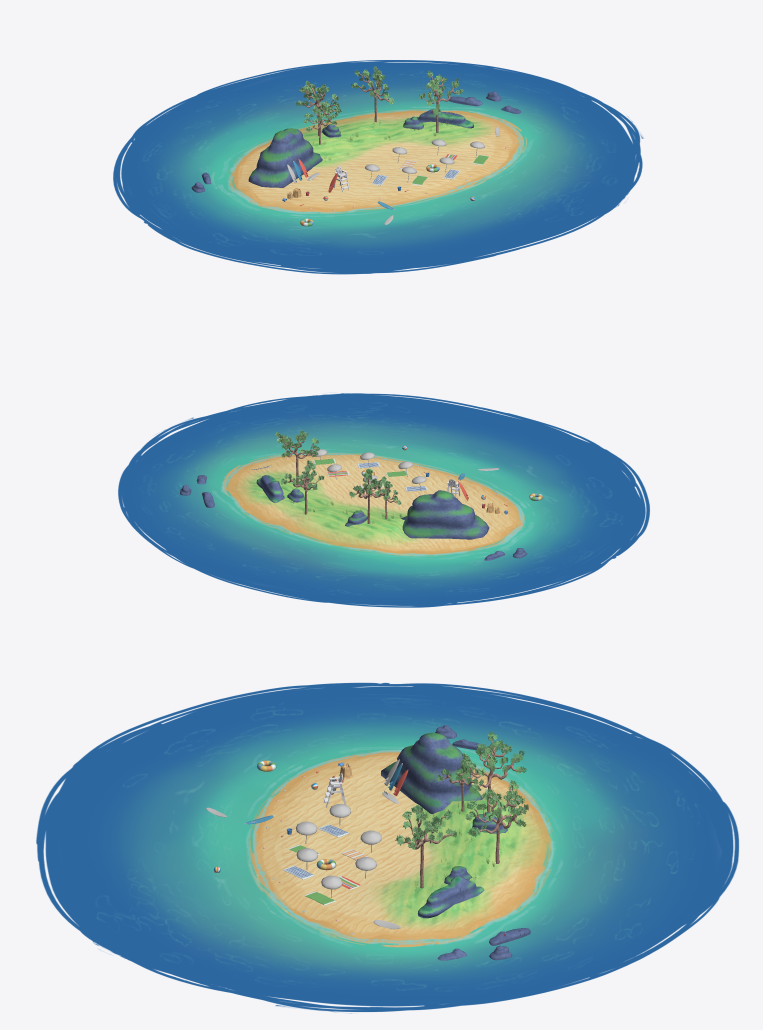
3 renders of one model, top to bottom at view 1: azimuth 30°, elevation 25°; view 2: azimuth 150°, elevation 25°; view 3: azimuth 270°, elevation 25°, orthographic. The views are drawn at different scales.
Parts seen in each view (by area): view 1: IslandModel_111, Rocks01WithGrass, Trees, Umbrellas, Rock02GrassGeo_117; view 2: IslandModel_111, Rocks01WithGrass, Trees, Umbrellas; view 3: IslandModel_111, Trees, Rocks01WithGrass, Umbrellas, Rock02GrassGeo_117, Rocks02WithoutGrass.
Part boxes in pixels (bbox=[...]): IslandModel_111: bbox=[113, 60, 643, 274]; Rocks01WithGrass: bbox=[248, 116, 423, 187]; Trees: bbox=[296, 66, 463, 144]; Umbrellas: bbox=[365, 139, 484, 182]; Rock02GrassGeo_117: bbox=[416, 108, 473, 128]; IslandModel_111: bbox=[118, 393, 649, 607]; Rocks01WithGrass: bbox=[287, 488, 489, 539]; Trees: bbox=[275, 430, 401, 523]; Umbrellas: bbox=[313, 449, 426, 491]; IslandModel_111: bbox=[36, 682, 739, 1013]; Trees: bbox=[395, 731, 528, 888]; Rocks01WithGrass: bbox=[381, 732, 507, 884]; Umbrellas: bbox=[296, 804, 381, 897]; Rock02GrassGeo_117: bbox=[417, 876, 484, 918]; Rocks02WithoutGrass: bbox=[437, 739, 530, 960].
Size of the model in its own units: 5450 by 748 by 5041.
